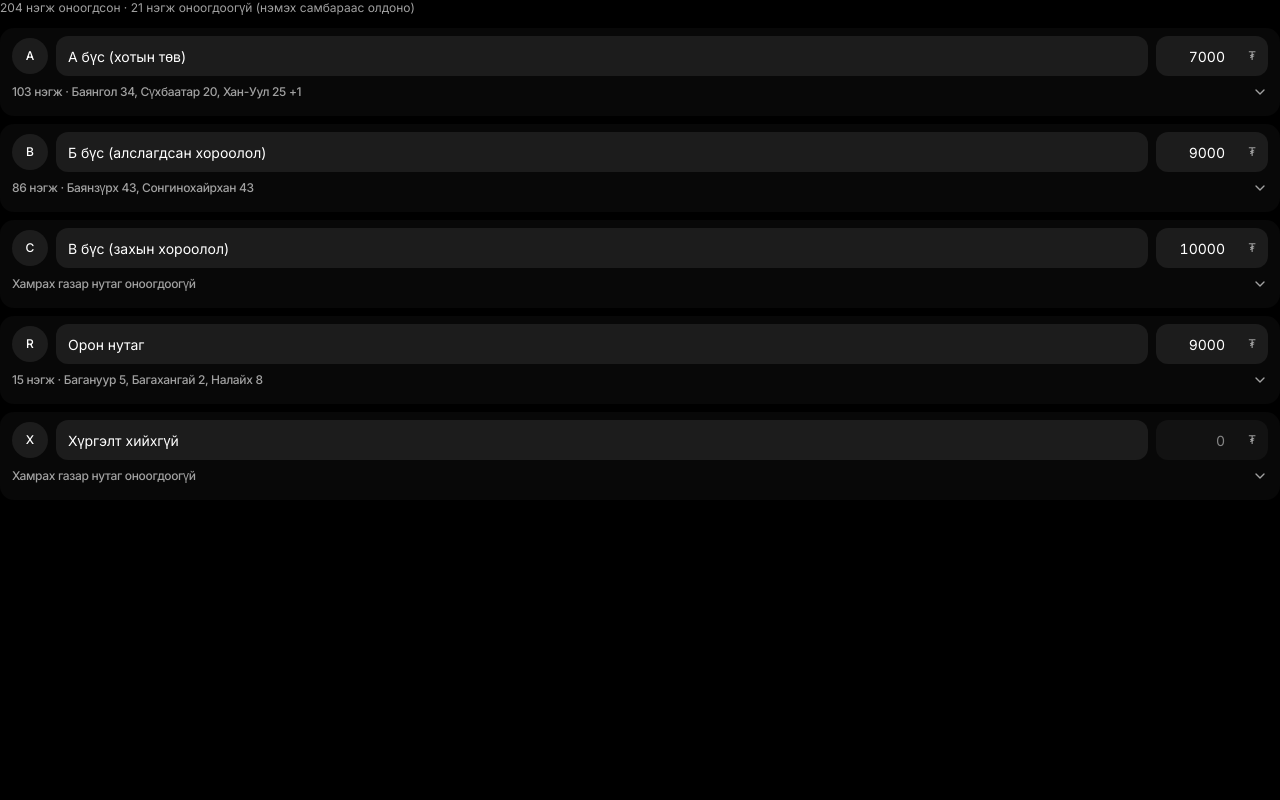
Test: ZoneEditor › moves the selected khoroos into another zone in one tap
Click the button "103 нэгж · Баянгол 34, Сүхбаатар 20, Хан-Уул 25 +1": click(157, 92) x1=12 y1=76 x2=1268 y2=108
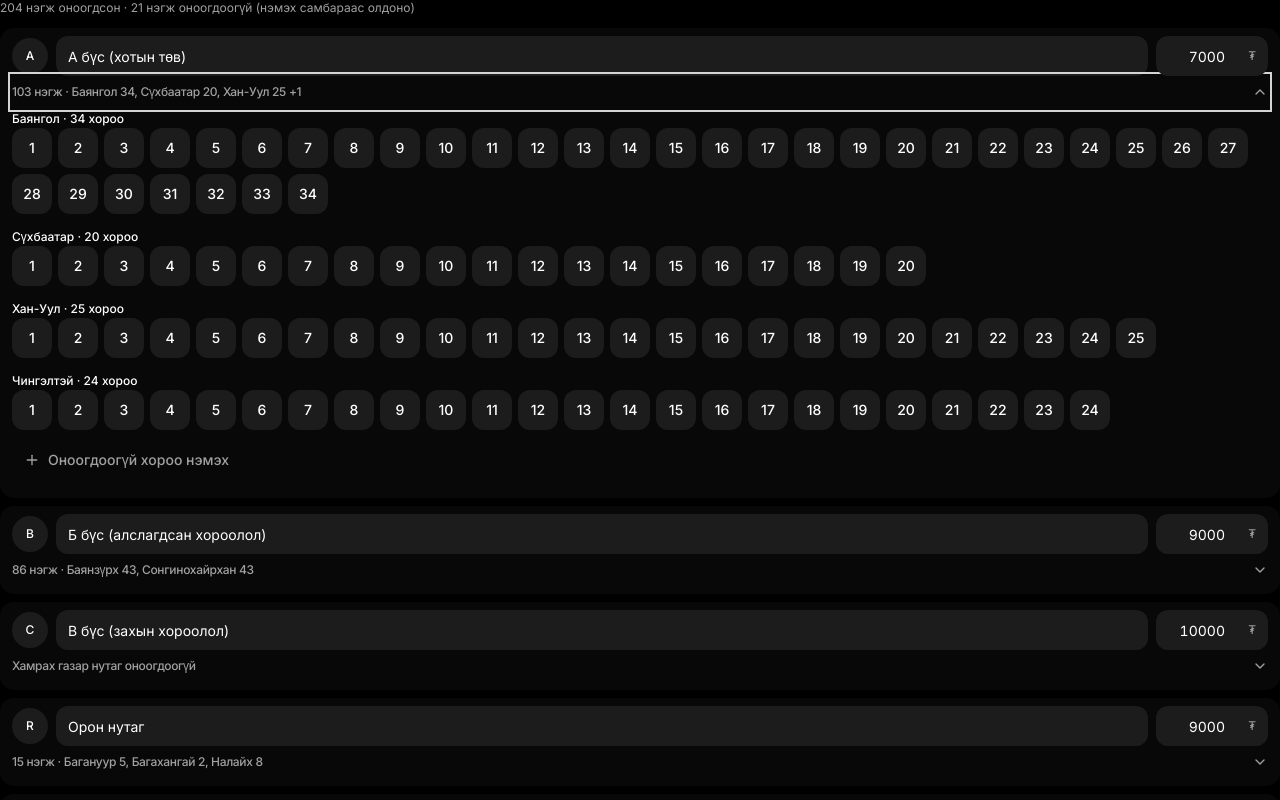
Click the button named "Баянгол — 5": click(216, 148) x1=196 y1=128 x2=236 y2=168
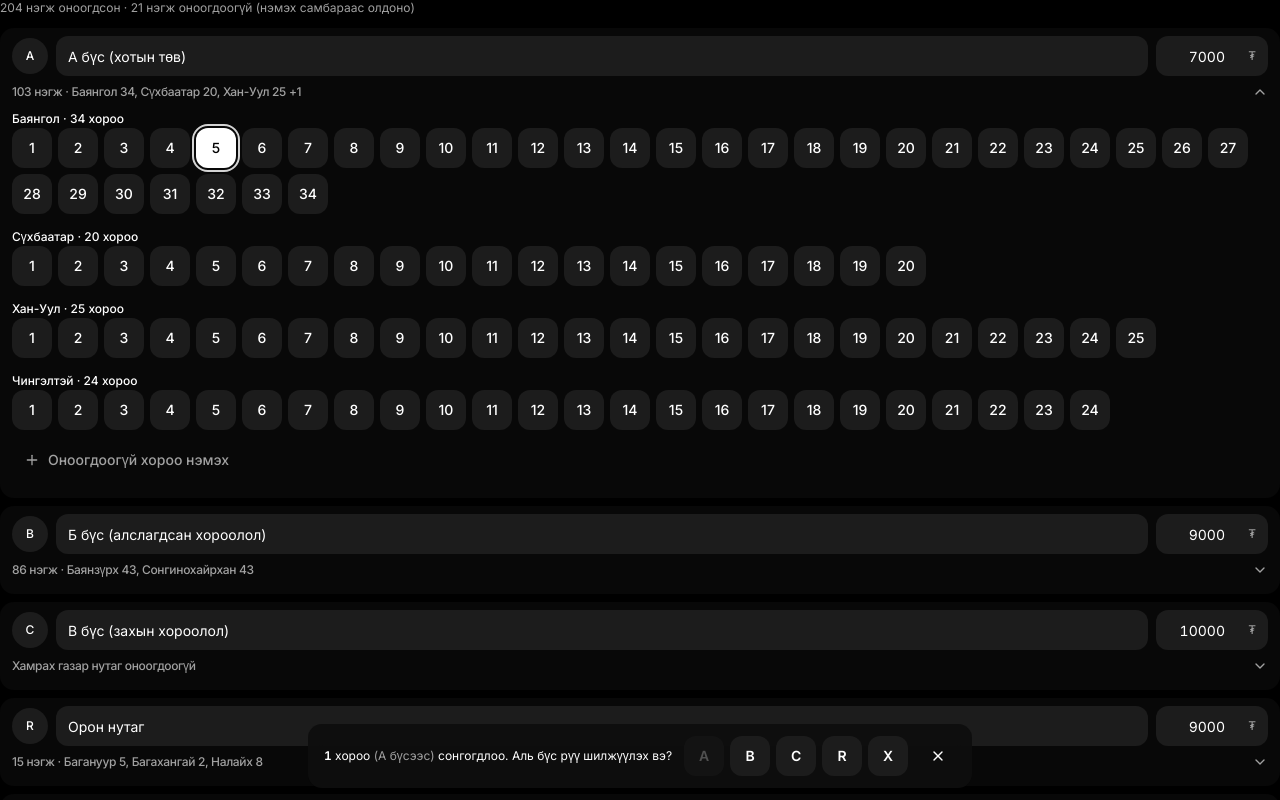
Click the button named "Баянгол — 6": click(262, 148) x1=242 y1=128 x2=282 y2=168
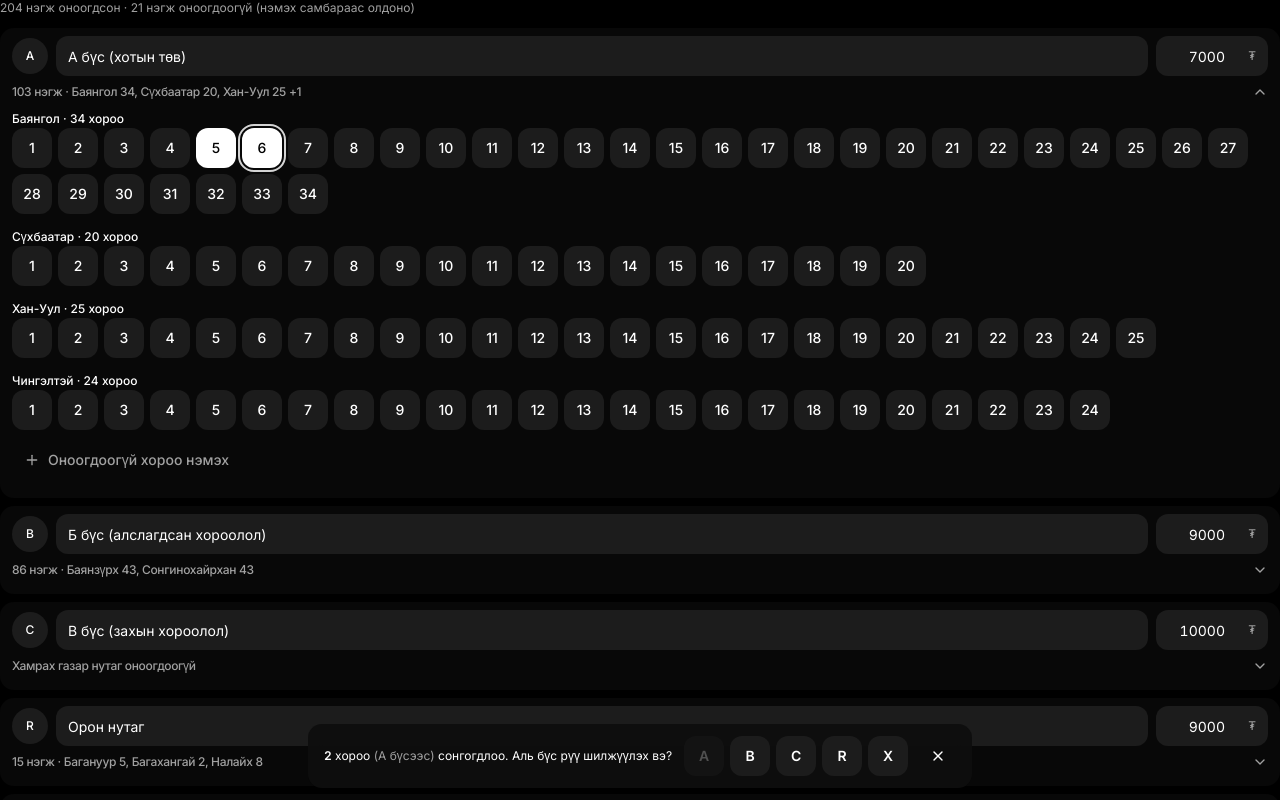
Expected: the text "2 хороо (A бүсээс) сонгогдлоо. Аль бүс рүү шилжүүлэх вэ?" is shown, x1=324 y1=748 x2=672 y2=764
Click the button named "В бүс (захын хороолол) руу шилжүүлэх": click(796, 756) x1=776 y1=736 x2=816 y2=776
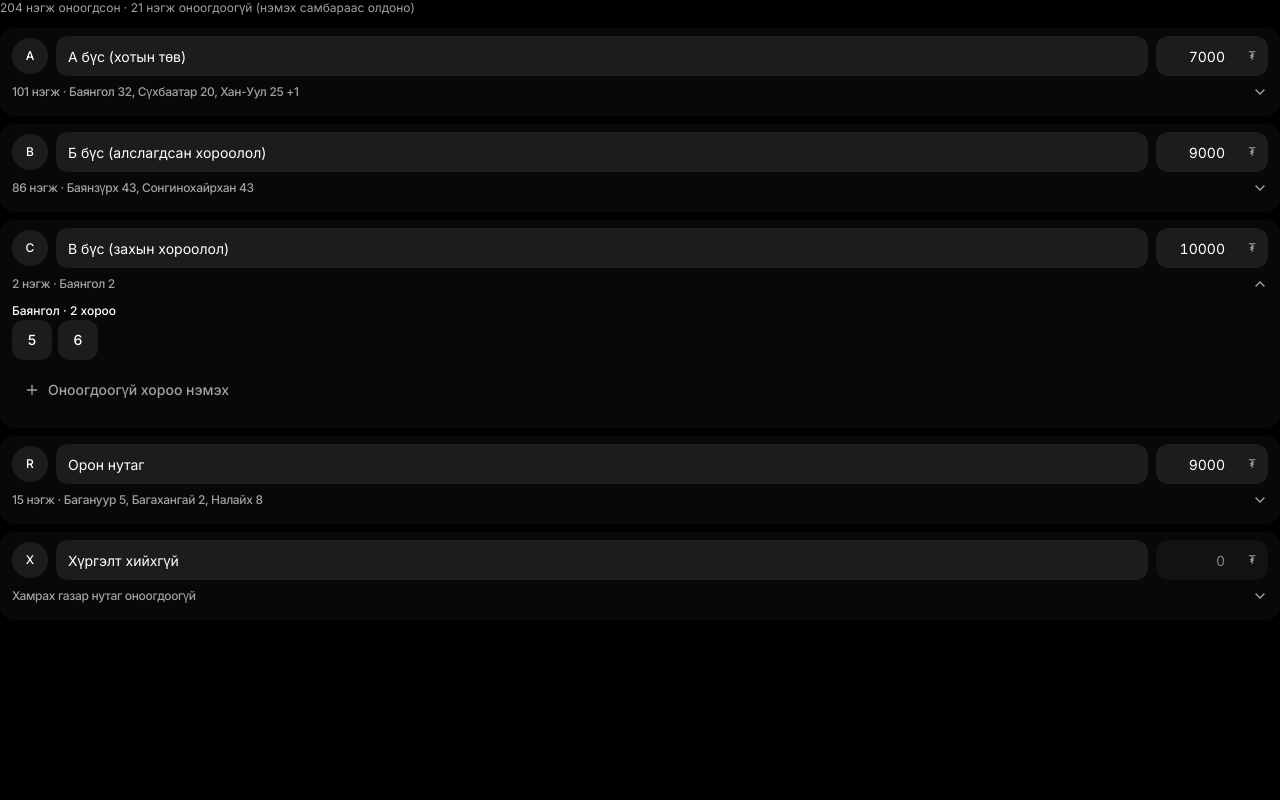
Expected: the text "сонгогдлоо" is gone
